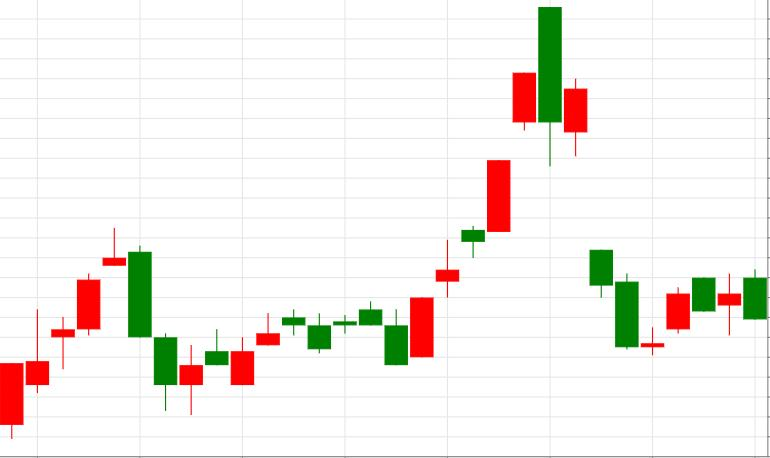bearish_engulfing_fall: (410, 7, 562, 358)
morning_star_rise: (564, 78, 690, 356)
